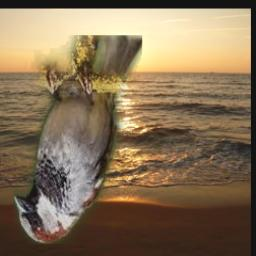Sparrow: (14, 35, 143, 244)
